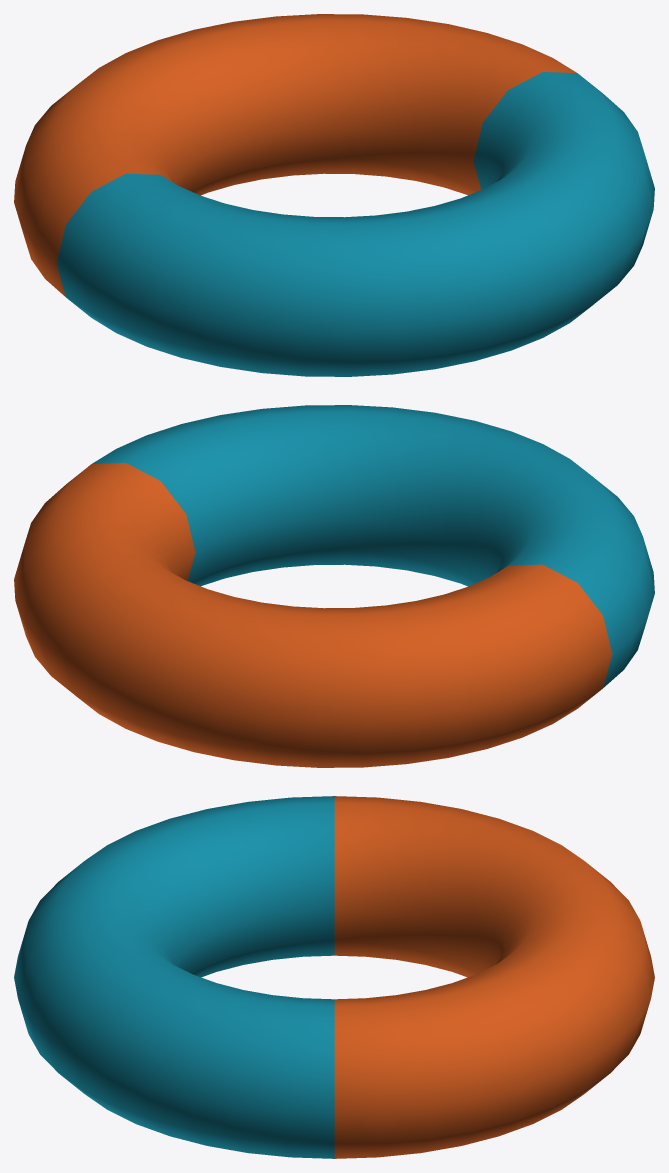
Rendered from orbit.obj.
3 views of the same model, one above another, from view 1: azimuth 30°, elevation 25°; view 2: azimuth 150°, elevation 25°; view 3: azimuth 270°, elevation 25° (orthographic).
Parts seen in each view (by area): view 1: Orbit; view 2: Orbit; view 3: Orbit.
Part boxes in pixels (x1=…): Orbit: x1=14, y1=14, x2=654, y2=376; Orbit: x1=14, y1=405, x2=654, y2=767; Orbit: x1=14, y1=796, x2=654, y2=1158.
Size of the model in its own units: 240 by 60 by 240.
